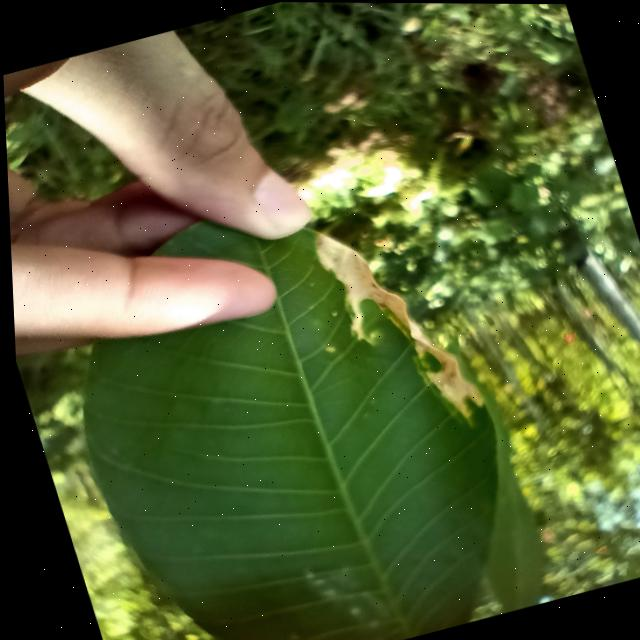Leaf-Blight: (306, 204, 485, 443)
